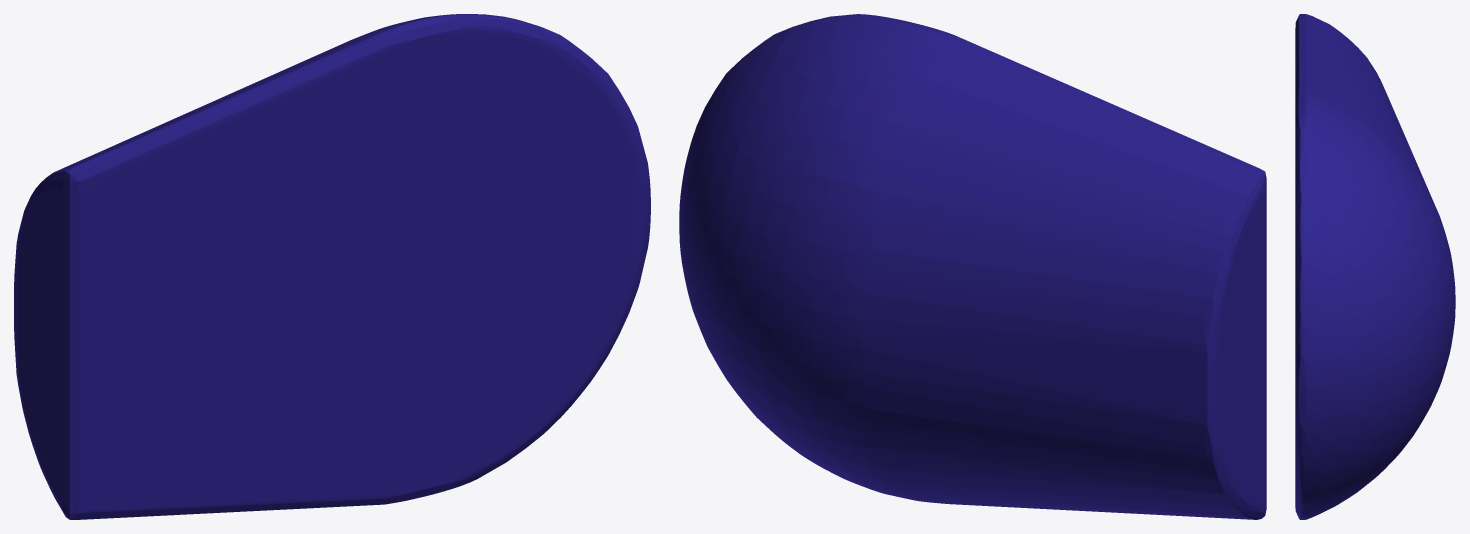
File: left_elbow_link_part_18.obj
The picture shows the model from 3 angles, left to right: view 1: azimuth 30°, elevation 25°; view 2: azimuth 150°, elevation 25°; view 3: azimuth 270°, elevation 25°; orthographic projection. The views are drawn at different scales.
Size of the model in its own units: 0.0879 by 0.0683 by 0.0251.
